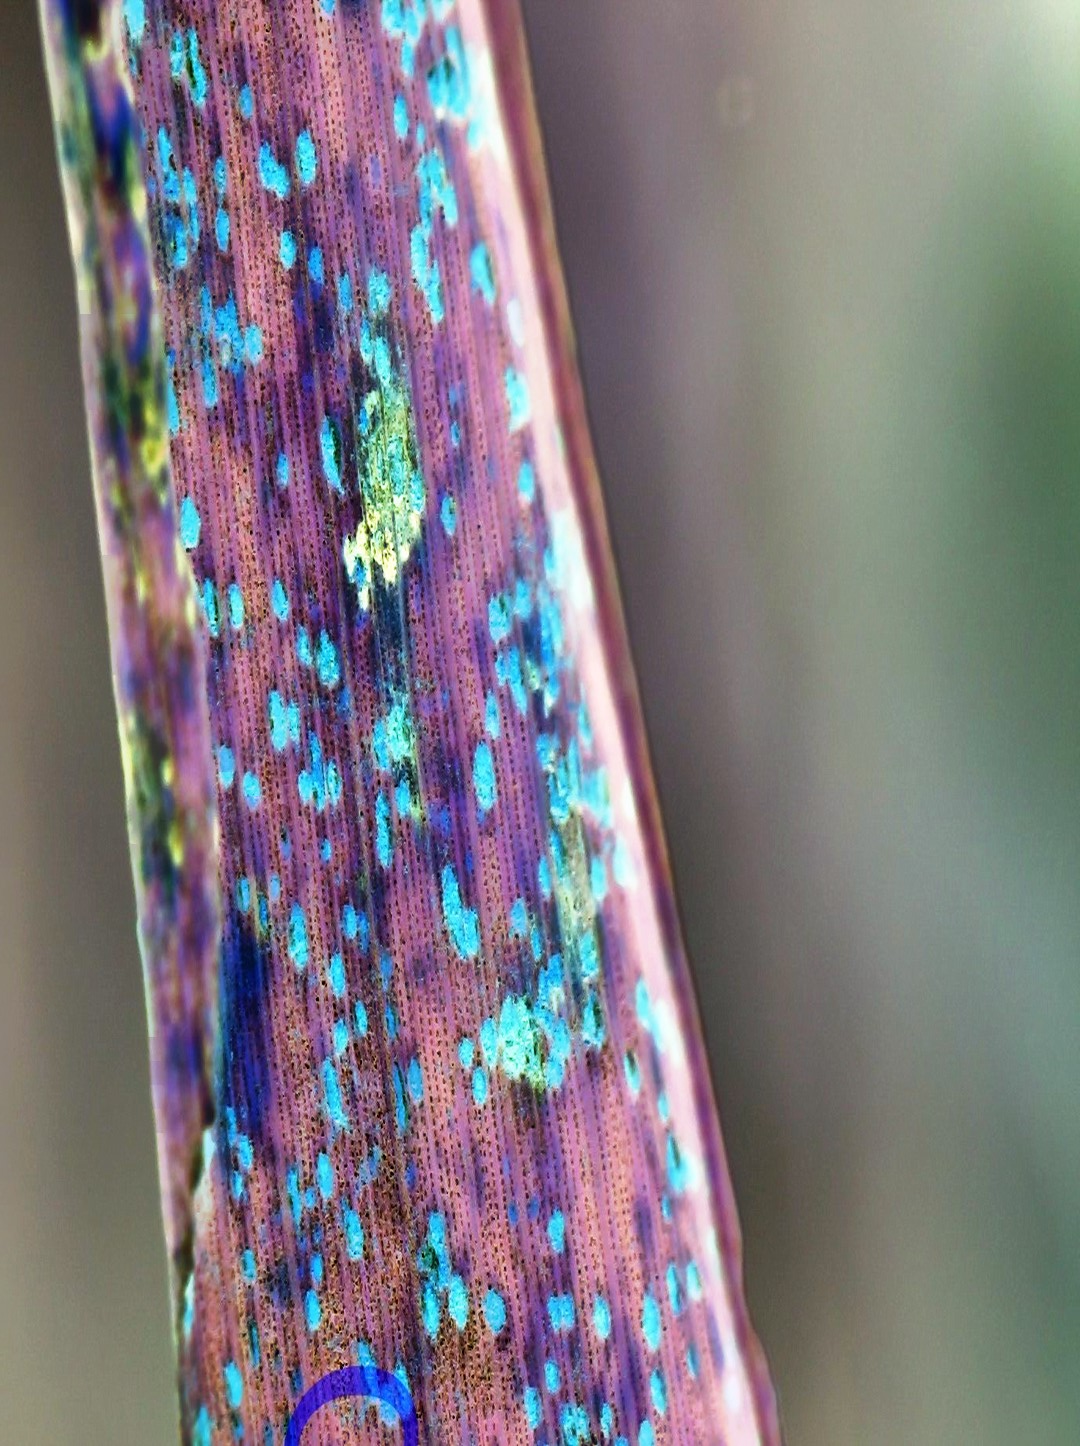Leaf Rust: (82, 113, 754, 1385)
